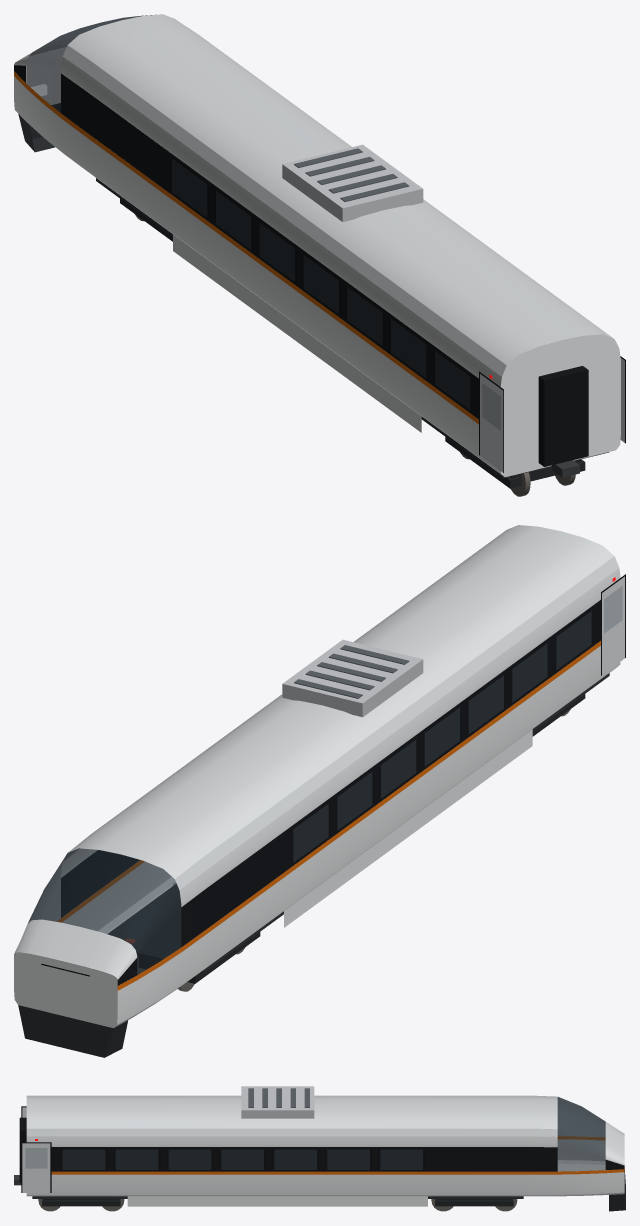
File: emu3000-lead.glb
The picture shows the model from 3 angles, top to bottom: view 1: azimuth 30°, elevation 25°; view 2: azimuth 150°, elevation 25°; view 3: azimuth 270°, elevation 25°; orthographic projection. The views are drawn at different scales.
Parts seen in each view (by area): view 1: EMU3000_Lead; view 2: EMU3000_Lead; view 3: EMU3000_Lead.
Boxes of the visible parts, x1,y1,x2,y2 form: EMU3000_Lead: (14, 14, 625, 496); EMU3000_Lead: (14, 525, 625, 1057); EMU3000_Lead: (14, 1086, 625, 1211).
Size of the model in its own units: 3.08 by 4.17 by 21.8.
